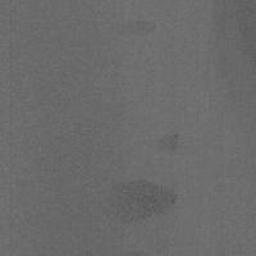Oil spot: (99, 177, 177, 228), (147, 128, 180, 157), (115, 18, 159, 38)
